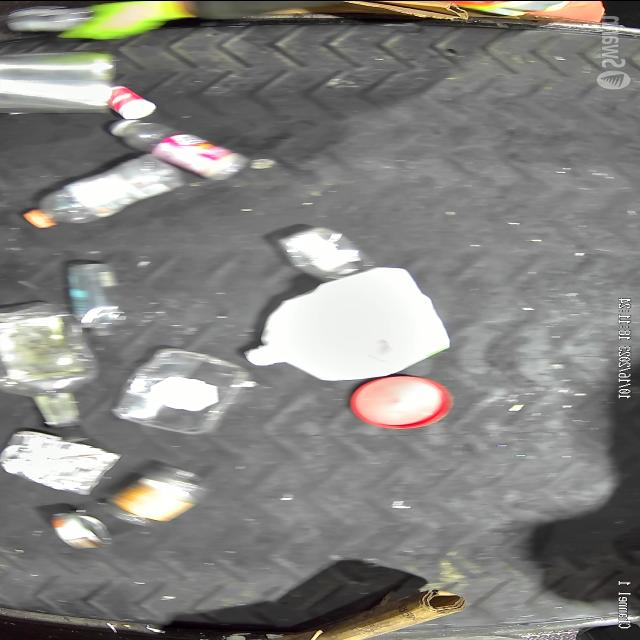can: (54, 509, 108, 550)
milk_jug: (258, 262, 446, 372)
plastic_bottle: (25, 154, 186, 227), (120, 119, 250, 179), (69, 264, 131, 339)
